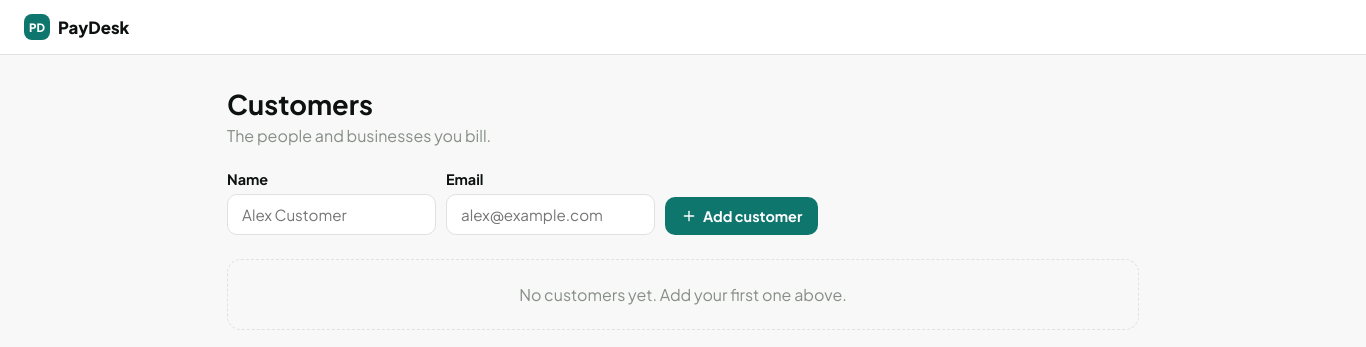
Test: CustomersPage › adds a new customer to the list on successful creation
The image size is (1366, 347).
Expected: the text "No customers yet. Add your first one above." is shown, [227,259,1139,330]
Type "Sam New" into the field with placeholder "Alex Customer" at (332, 214), box [227,194,436,235]
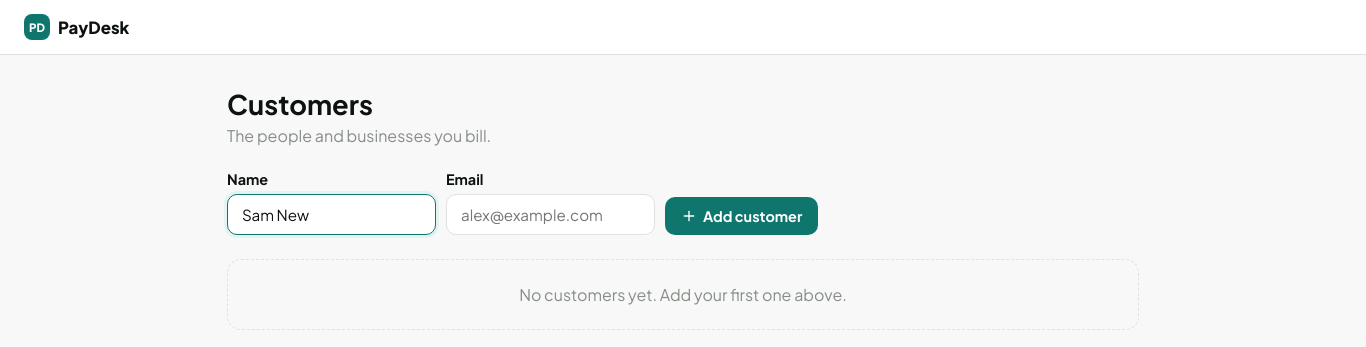
Type "sam@example.com" into the field with placeholder "alex@example.com" at (550, 214), box [446,194,655,235]
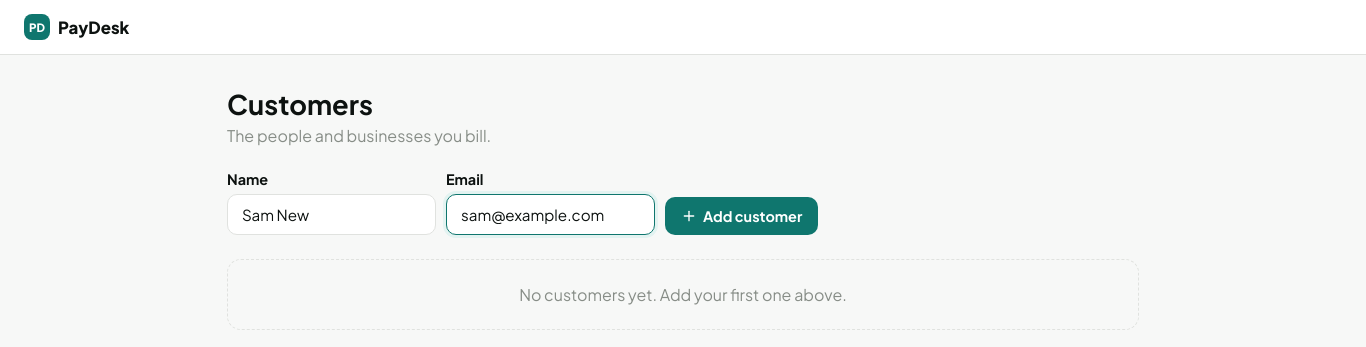
Click the button "Add customer" at (742, 216), box [665,197,818,235]
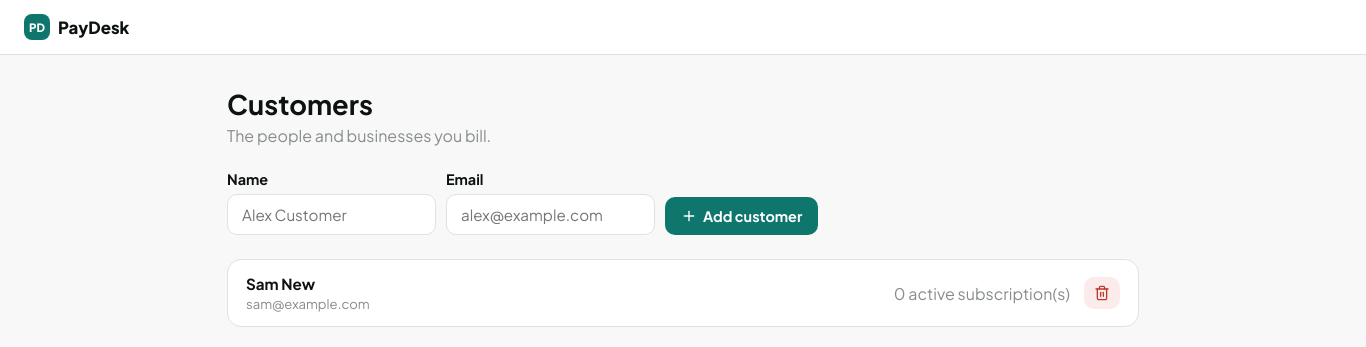
Result: the text "Sam New" is shown at [246,274,315,293]
